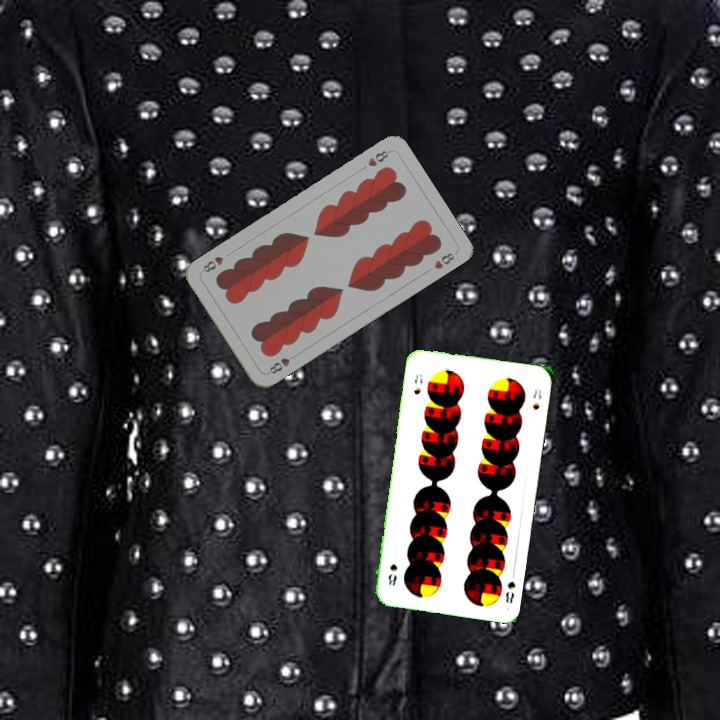H8: (265, 350, 300, 377), (364, 146, 393, 169)
S8: (501, 577, 518, 606), (410, 370, 425, 397)
